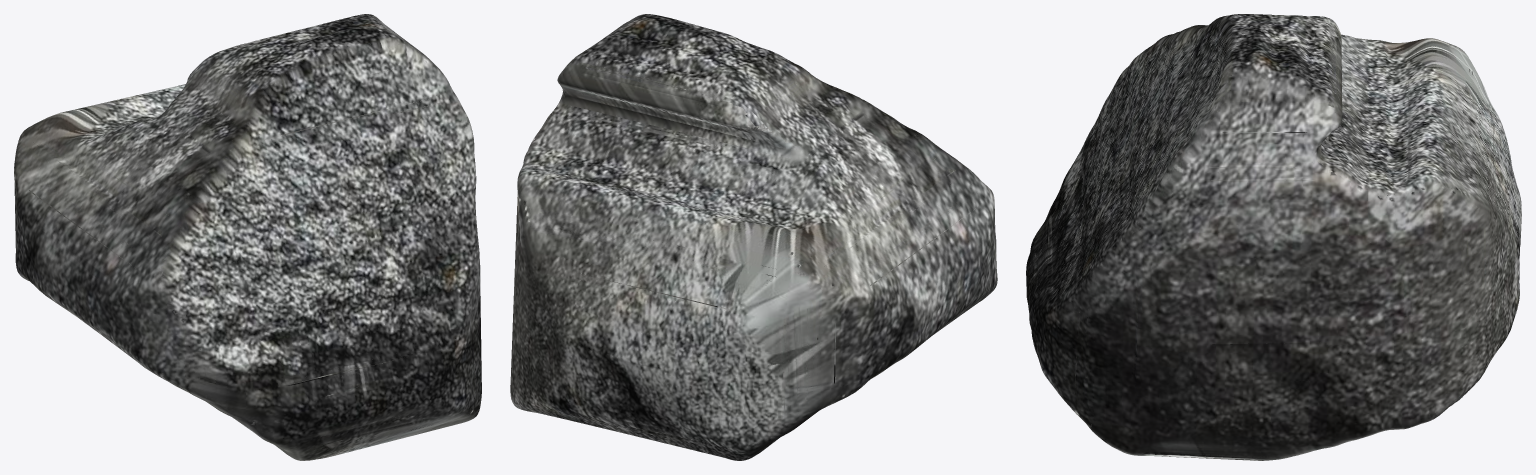
File: 01oclock.glb
The picture shows the model from 3 angles, left to right: view 1: azimuth 30°, elevation 25°; view 2: azimuth 150°, elevation 25°; view 3: azimuth 270°, elevation 25°; orthographic projection. The views are drawn at different scales.
Visible parts, largest first — view 1: Rock; view 2: Rock; view 3: Rock.
Boxes of the visible parts, box(x1,y1,x2,y2) form: Rock: box(14, 14, 481, 460); Rock: box(510, 14, 997, 460); Rock: box(1026, 14, 1521, 460).
Size of the model in its own units: 0.7368 by 0.7159 by 0.8164.
Materials: 1 (1 with a texture image).
